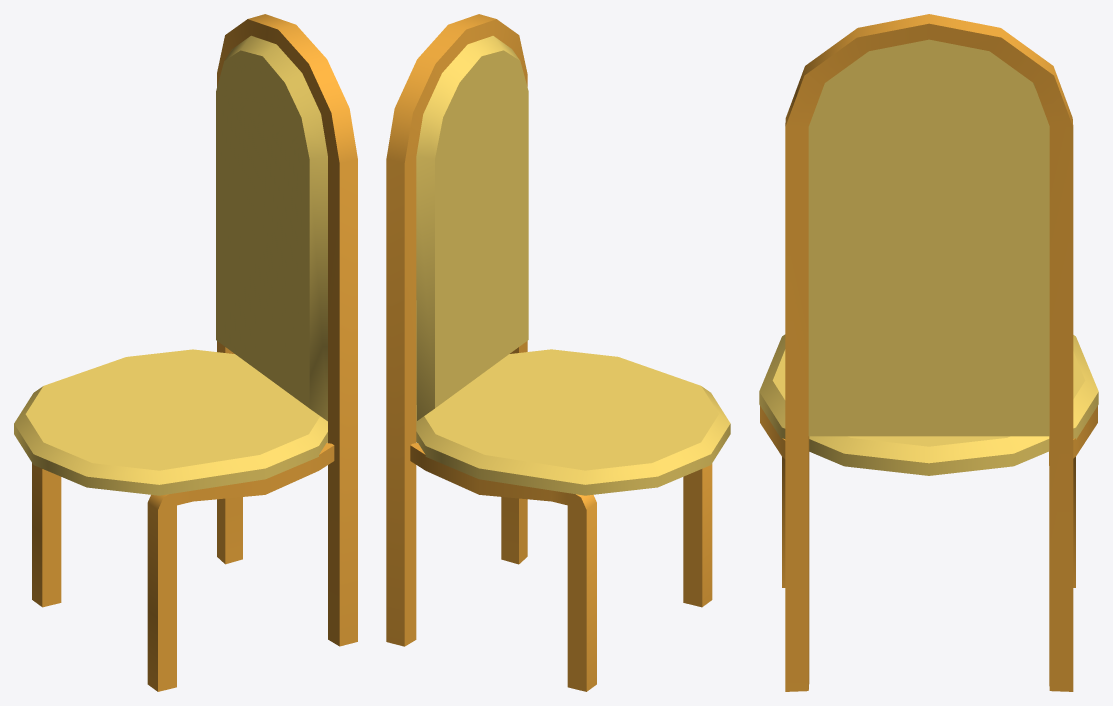
File: coffe_chair_03.fbx
3 views of the same model, side by side, from view 1: azimuth 30°, elevation 25°; view 2: azimuth 150°, elevation 25°; view 3: azimuth 270°, elevation 25° (orthographic). The views are drawn at different scales.
Visible parts, largest first — view 1: coffe_chair_03; view 2: coffe_chair_03; view 3: coffe_chair_03.
Part boxes in pixels (bbox=[...]): coffe_chair_03: bbox=[14, 14, 357, 691]; coffe_chair_03: bbox=[386, 14, 730, 691]; coffe_chair_03: bbox=[759, 14, 1098, 691].
Bounding box in the file's own units: 0.7335 × 1.41 × 0.647.
